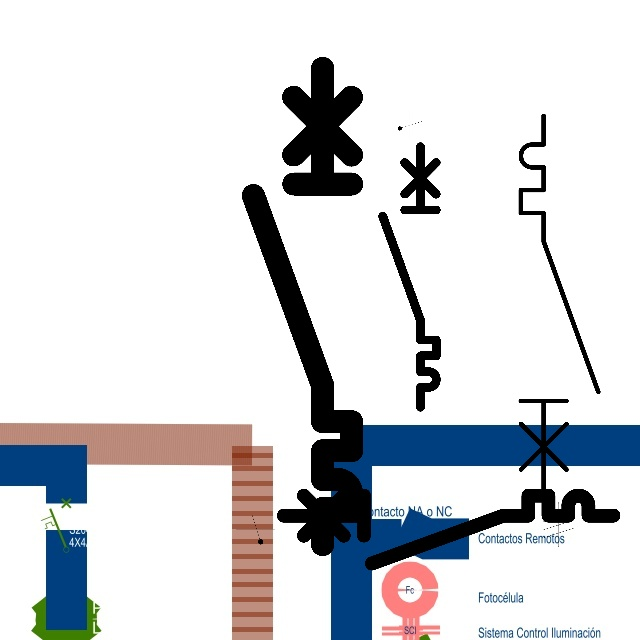interruptor_termomagnetico: (241, 56, 364, 557), (511, 106, 608, 502), (275, 487, 622, 572), (376, 139, 443, 413)
